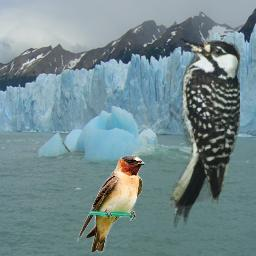Swallow: (77, 155, 145, 253)
Woodpecker: (169, 37, 240, 228)
